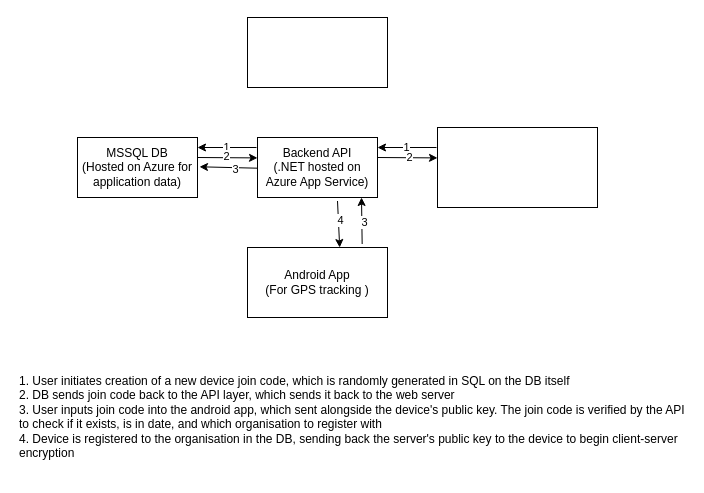
The diagram is 704 pixels wide and 493 high, and some of its shapes have lost their labels. Here are the shapes that lost their labels. From the top down, the box of each, then its label:
(246, 16, 388, 88): Entra ID (Azure AD for user accounts)
(436, 126, 598, 208): Online dashboard (Hosted on Azure App Service, or local for now)
